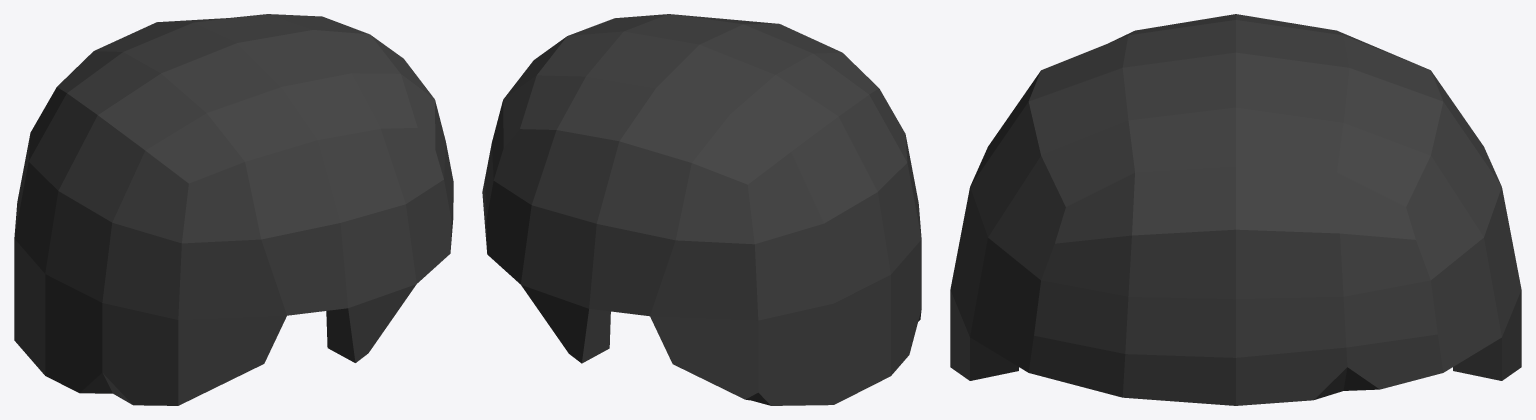
The model's file is ManHairDarkGray.fbx.
The picture shows the model from 3 angles, left to right: view 1: azimuth 30°, elevation 25°; view 2: azimuth 150°, elevation 25°; view 3: azimuth 270°, elevation 25°; orthographic projection. The views are drawn at different scales.
Visible parts, largest first — view 1: Cube; view 2: Cube; view 3: Cube.
Boxes of the visible parts, left/top/right/bottom form: Cube: left=14, top=14, right=453, bottom=405; Cube: left=482, top=14, right=921, bottom=405; Cube: left=950, top=14, right=1521, bottom=405.
Size of the model in its own units: 165 by 119 by 168.
